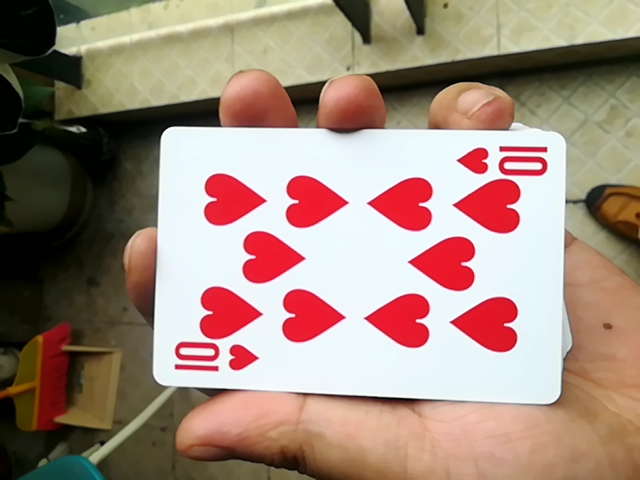hx 10: (148, 126, 564, 408)
